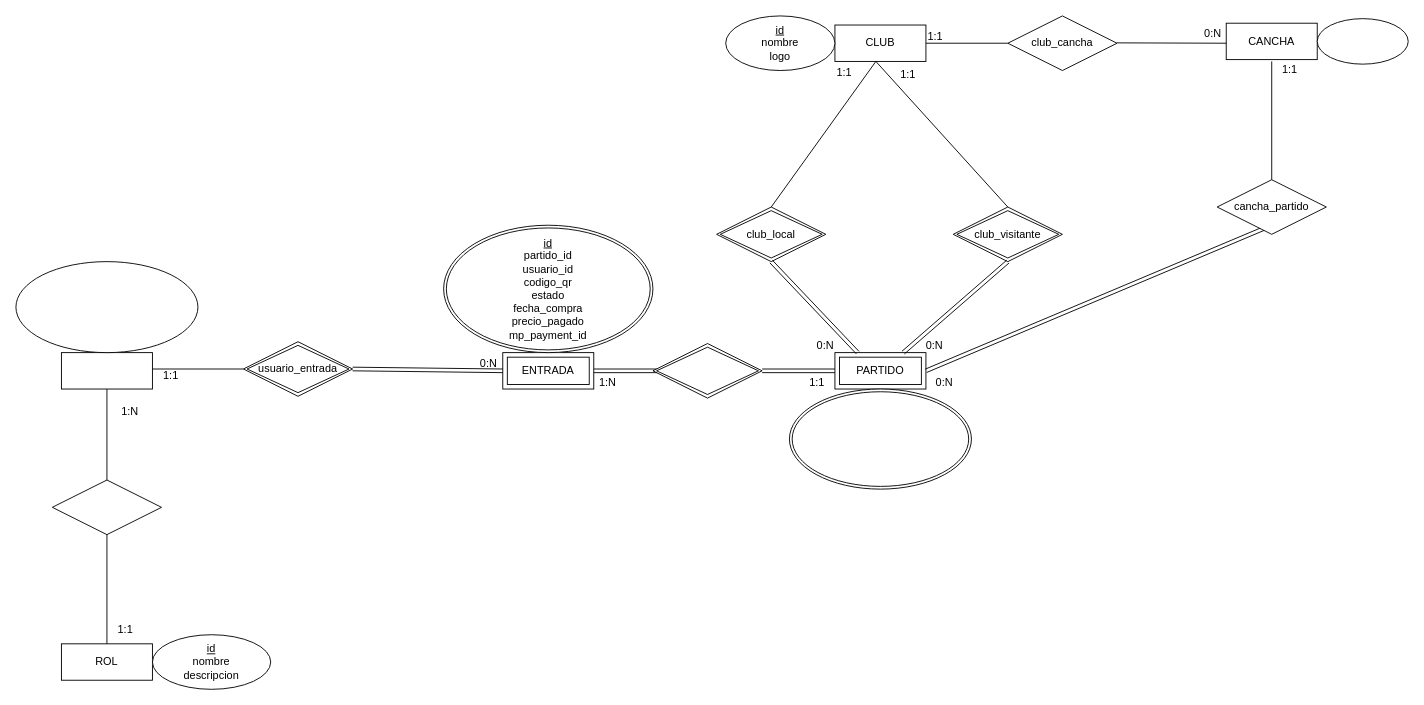
Image size: 1424x705. Some labels were removed from this diagram. The shapes that lost their labels are listed below. From the top down, each one's box as (x1, y1, x2, y2) in pixels, then its label:
(1316, 18, 1408, 64): id nombre direccion
(15, 261, 198, 353): id nombre apellido email password_hash rol_id created_at
(61, 352, 152, 389): USUARIO
(652, 343, 762, 398): partido_entrada
(789, 388, 971, 489): id equipo_local equipo_visitante cancha fecha_hora precio_entrada estado
(51, 479, 162, 535): rol_usuario
